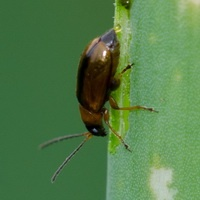insect: (39, 29, 156, 181)
